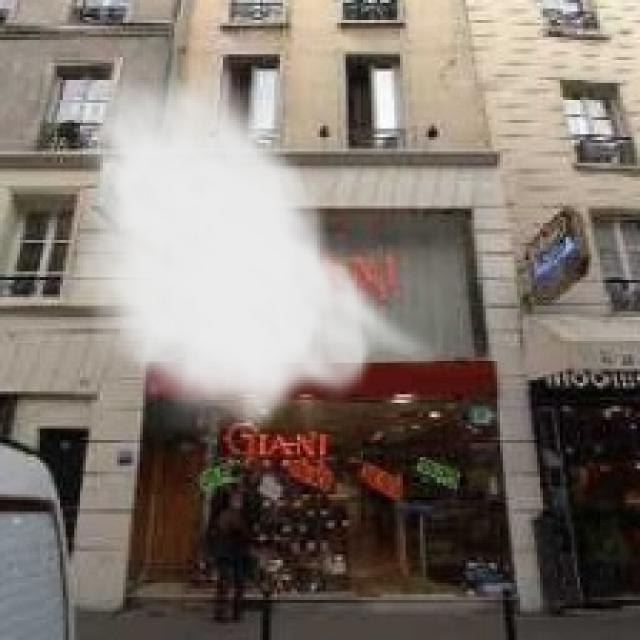smoke: (66, 48, 446, 443)
